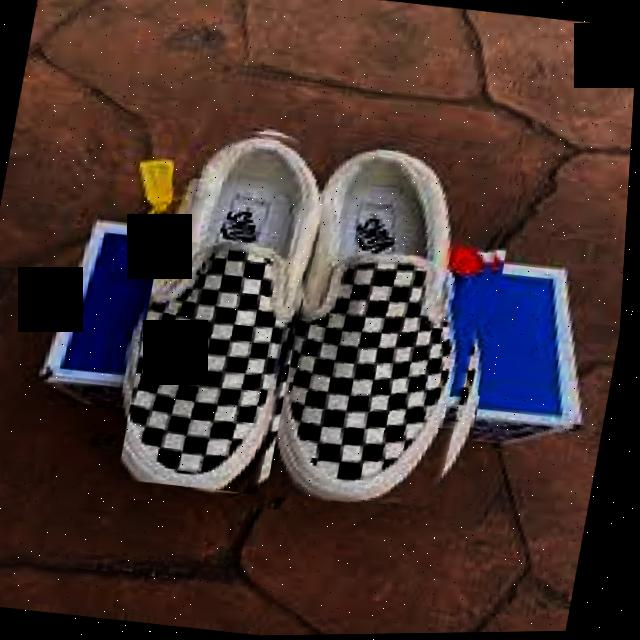shoe: (105, 105, 529, 540), (271, 130, 525, 523), (122, 119, 346, 499)
